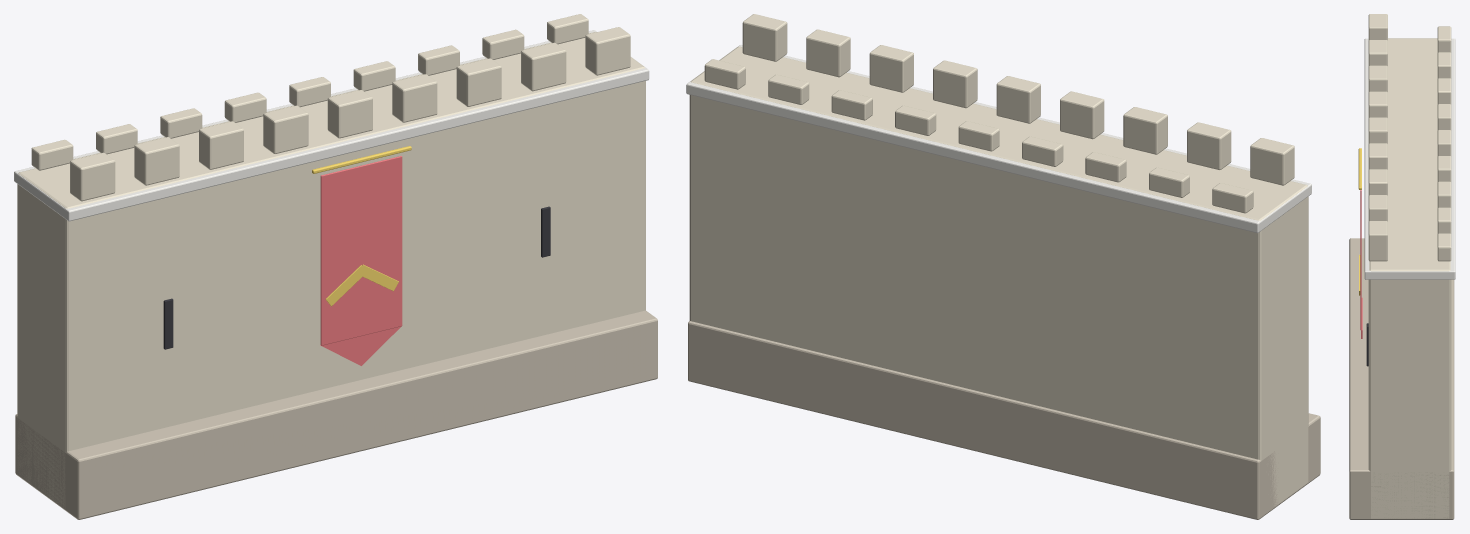
Rendered from castle_wall.fbx.
3 views of the same model, side by side, from view 1: azimuth 30°, elevation 25°; view 2: azimuth 150°, elevation 25°; view 3: azimuth 270°, elevation 25° (orthographic). The views are drawn at different scales.
Parts seen in each view (by area): view 1: Visual; view 2: Visual; view 3: Visual.
Boxes of the visible parts, bbox=[...] form: Visual: bbox=[14, 14, 657, 519]; Visual: bbox=[686, 14, 1320, 519]; Visual: bbox=[1349, 14, 1455, 519].
Size of what is drawn, in the model's own units: 2002 by 1120 by 385.
